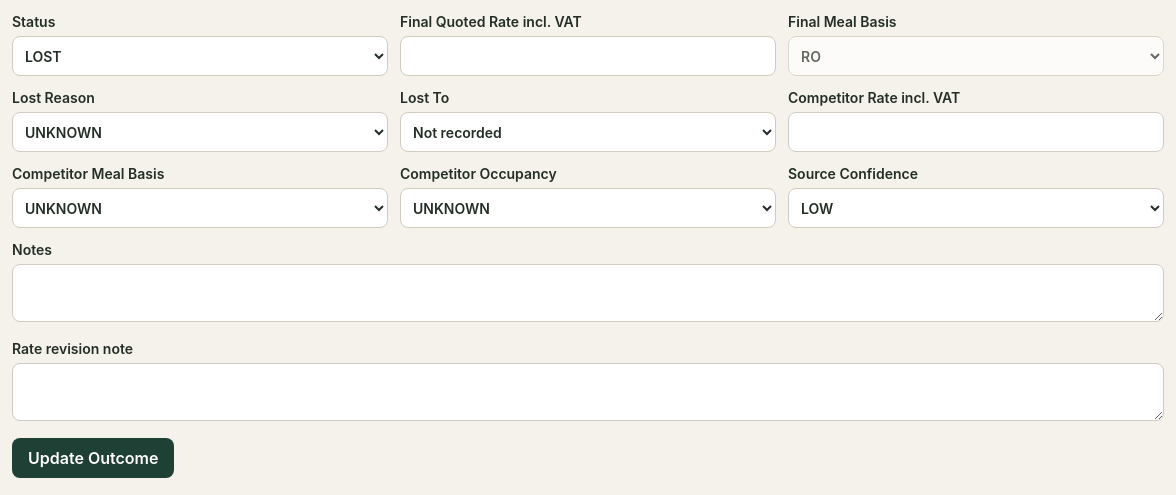
Test: commercial evidence form recovery › reports a successful outcome accurately when refreshing the view fails
Click the button "Update Outcome" at [93, 458], box [12, 438, 174, 478]
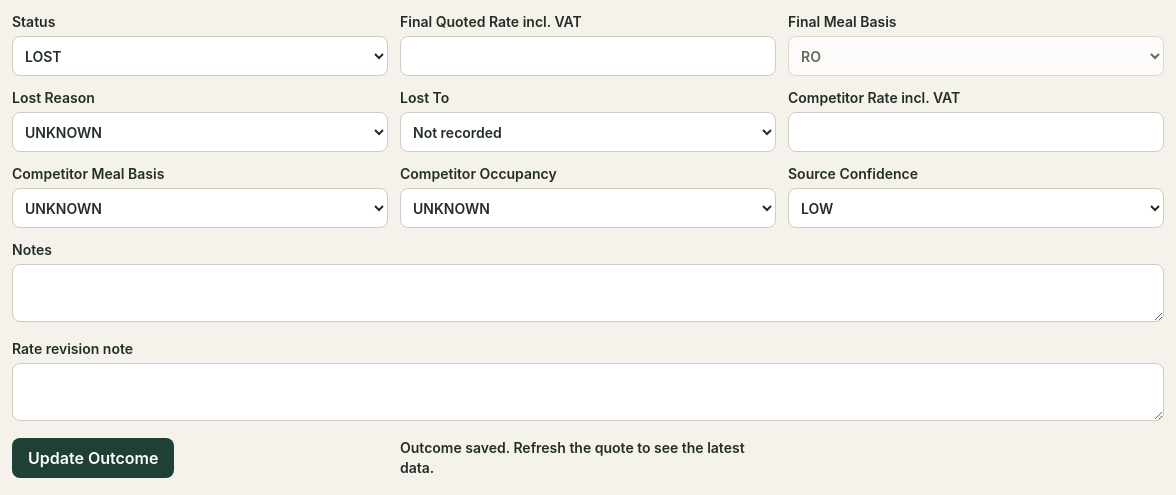
expect the message shows "Outcome saved. Refresh": met, box [400, 439, 745, 476]
